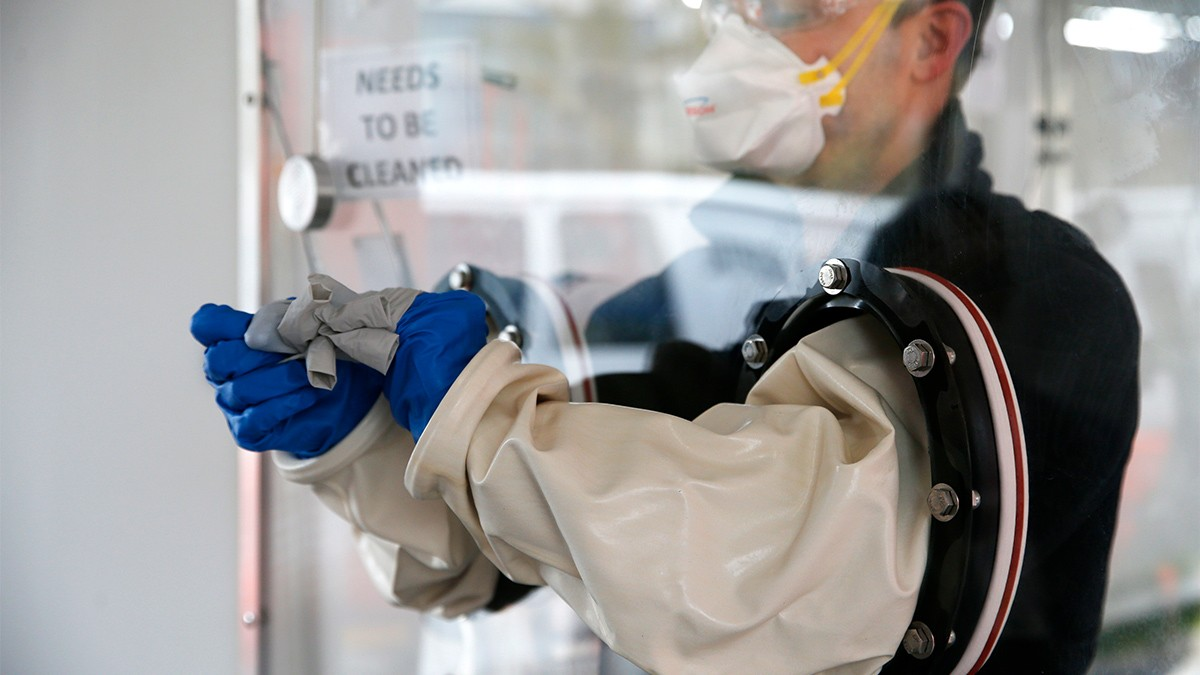Gloves: (184, 298, 381, 465), (348, 279, 508, 459)
with_mask: (673, 5, 847, 174)
